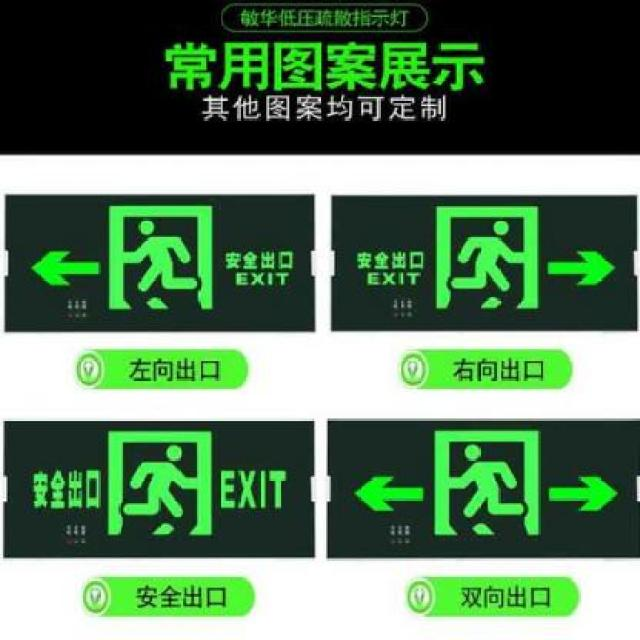exit_sign: (326, 408, 640, 568), (327, 187, 640, 337), (9, 182, 313, 330), (0, 415, 315, 557)
